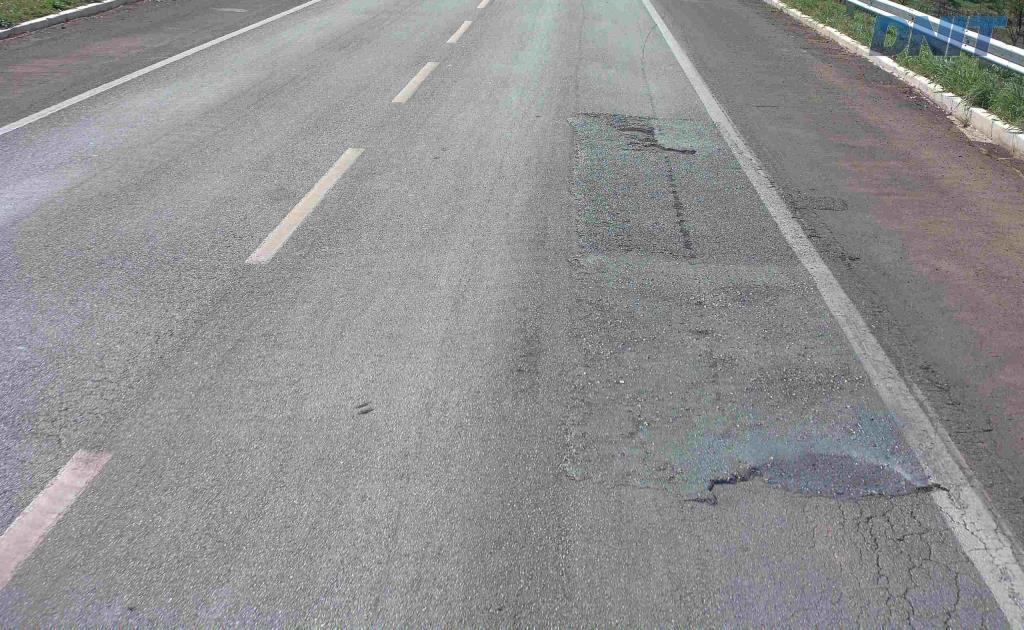pothole: (612, 122, 695, 154)
